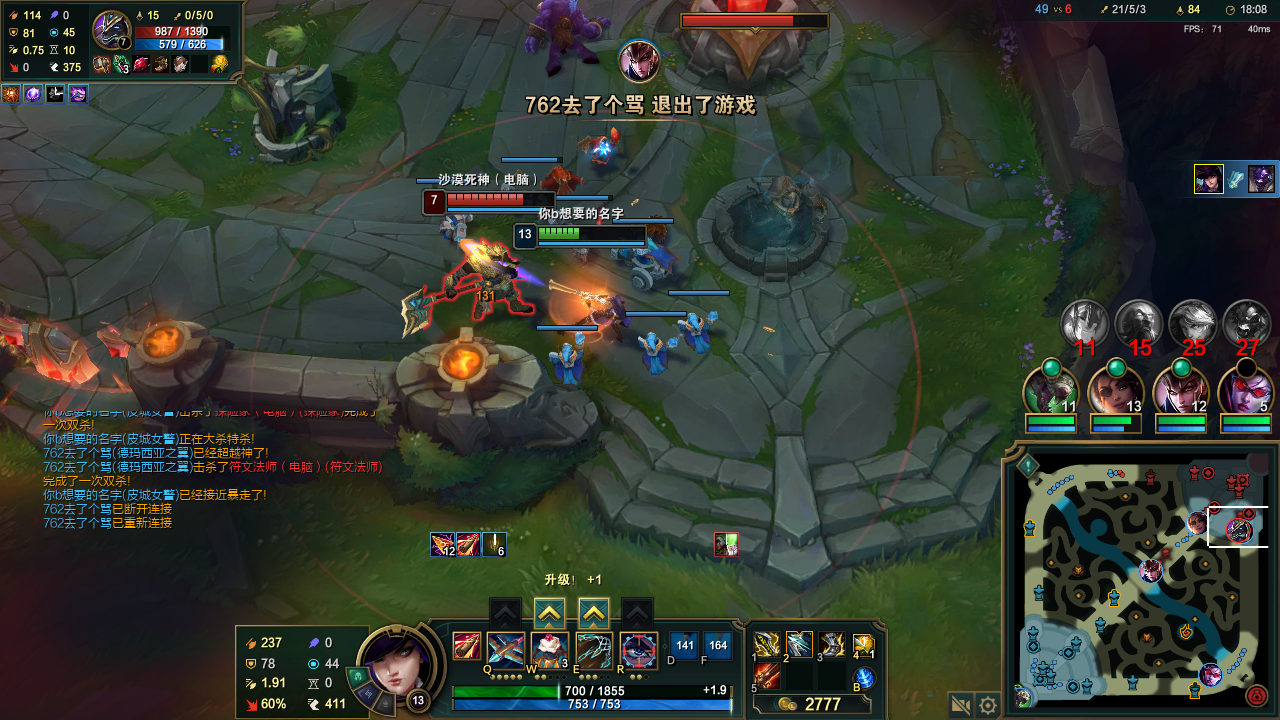DFSJ: (671, 4, 819, 84)
DFYX: (434, 190, 552, 208)
WFXB: (621, 248, 677, 289), (637, 336, 672, 372), (550, 348, 583, 384), (681, 318, 713, 353)
